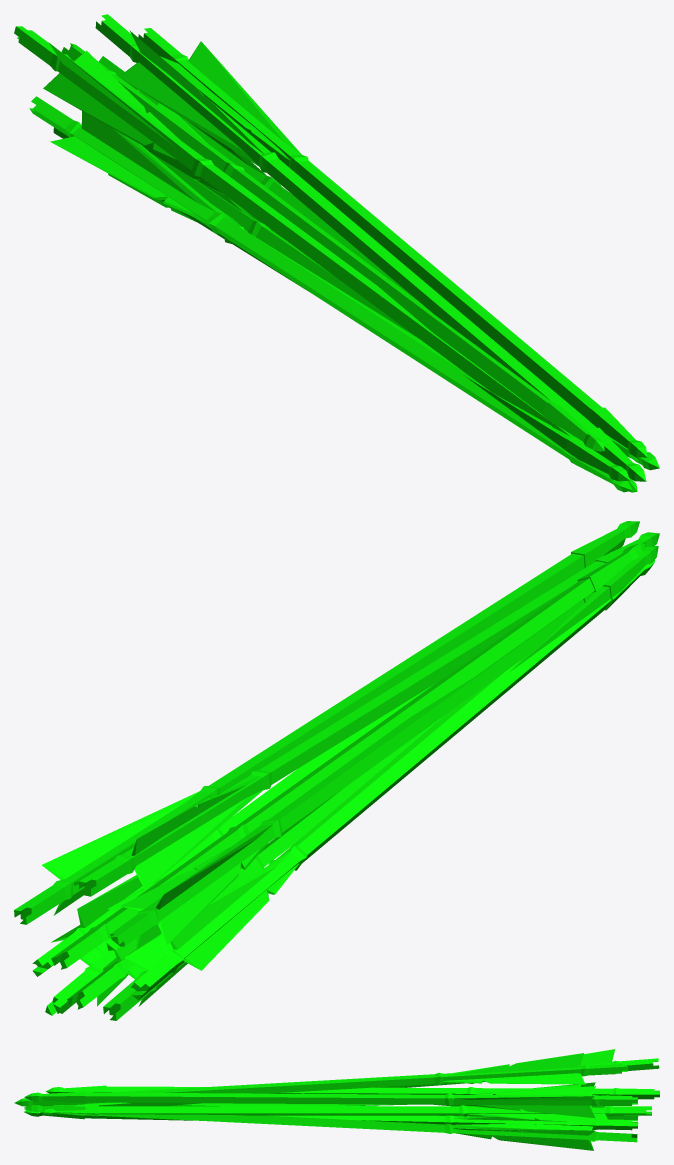
The model's file is SM_Arrow_Pile_Color_B.fbx.
3 views of the same model, one above another, from view 1: azimuth 30°, elevation 25°; view 2: azimuth 150°, elevation 25°; view 3: azimuth 270°, elevation 25° (orthographic). The views are drawn at different scales.
Visible parts, largest first — view 1: arrow-pile-color-b; view 2: arrow-pile-color-b; view 3: arrow-pile-color-b.
Boxes of the visible parts, bbox=[...] form: arrow-pile-color-b: bbox=[14, 14, 659, 492]; arrow-pile-color-b: bbox=[14, 521, 659, 1020]; arrow-pile-color-b: bbox=[14, 1049, 659, 1150].
Size of the model in its own units: 0.16 by 0.1613 by 1.05.
